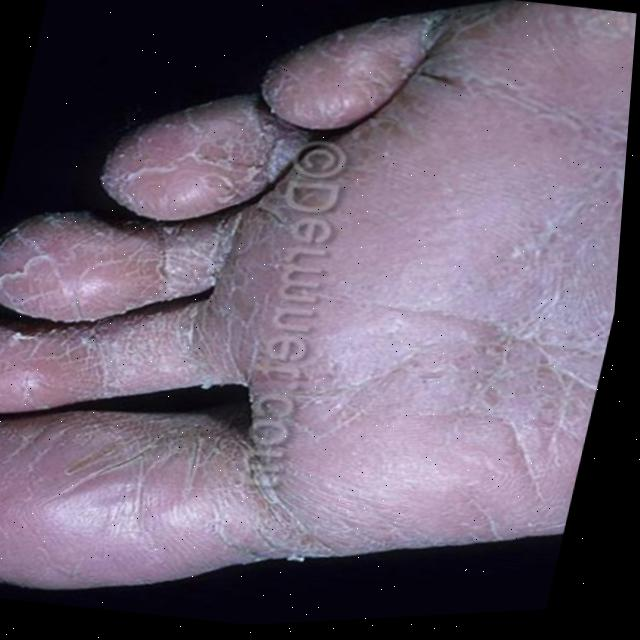Eczema: (0, 9, 637, 558)
